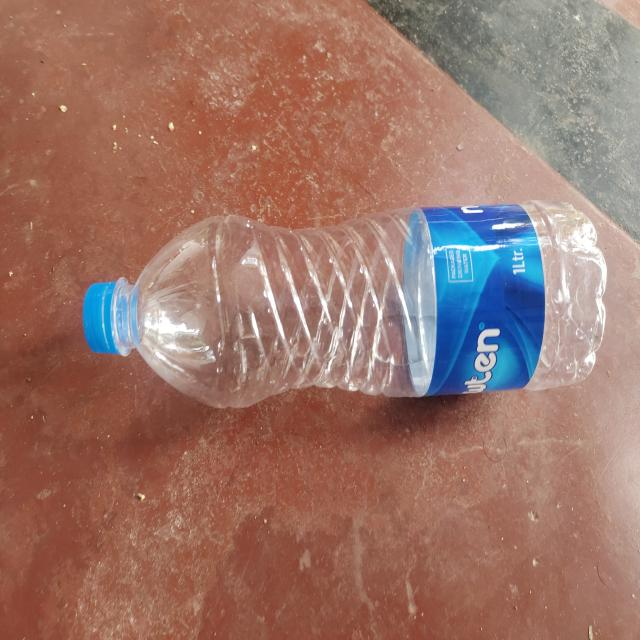plastic: (80, 202, 608, 417)
